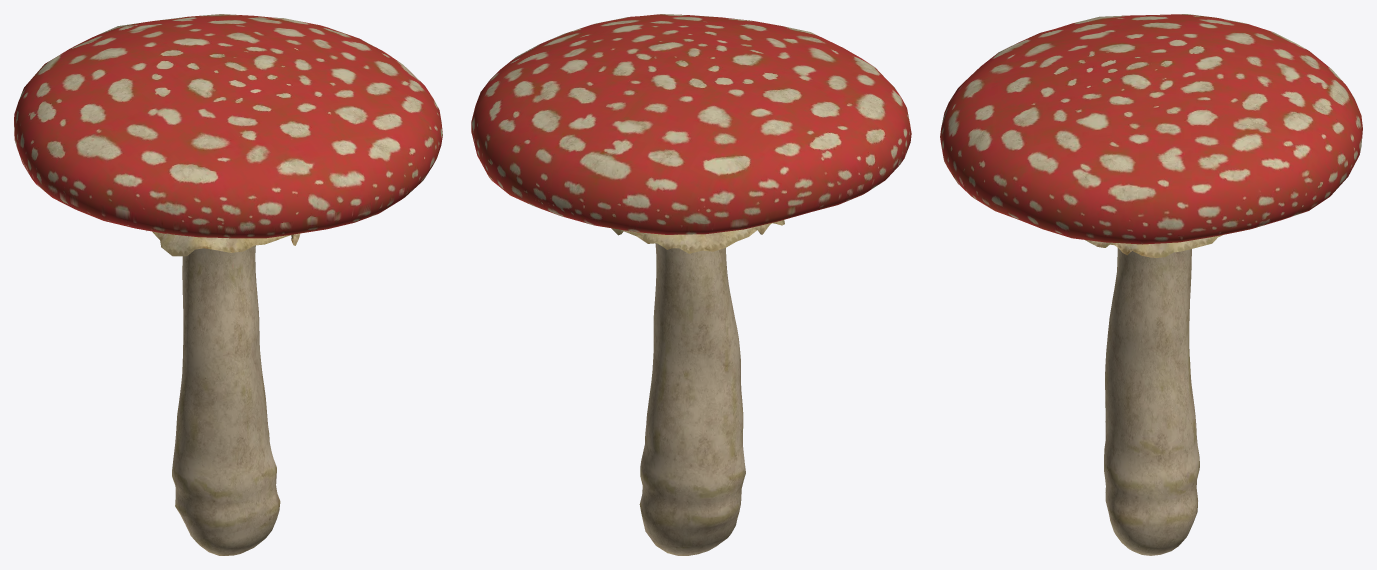
The model's file is fly_agaric_mushroom.glb.
3 renders of one model, left to right at view 1: azimuth 30°, elevation 25°; view 2: azimuth 150°, elevation 25°; view 3: azimuth 270°, elevation 25°, orthographic. The views are drawn at different scales.
Visible parts, largest first — view 1: hood_low_default_0; view 2: hood_low_default_0; view 3: hood_low_default_0.
Part boxes in pixels (<box>): hood_low_default_0: <box>14,14,442,555</box>; hood_low_default_0: <box>471,14,911,555</box>; hood_low_default_0: <box>940,14,1362,555</box>.
Size of the model in its own units: 103 by 127 by 101.
1 material, 1 textured.
